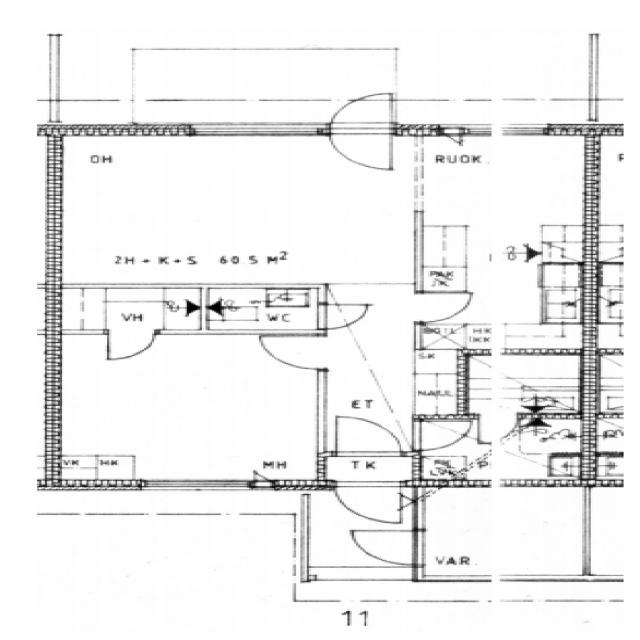door: (323, 91, 397, 174), (341, 523, 426, 569), (326, 478, 408, 525), (322, 413, 404, 458), (252, 329, 334, 371), (406, 288, 479, 325), (406, 417, 480, 453), (94, 328, 161, 363), (315, 298, 371, 330)
window: (185, 122, 325, 142), (131, 476, 251, 496), (464, 121, 549, 138)
zone: (46, 133, 420, 290), (47, 330, 326, 485), (7, 505, 316, 636), (404, 135, 599, 225), (415, 486, 587, 580), (462, 351, 590, 417), (538, 264, 592, 323), (520, 414, 588, 454)
